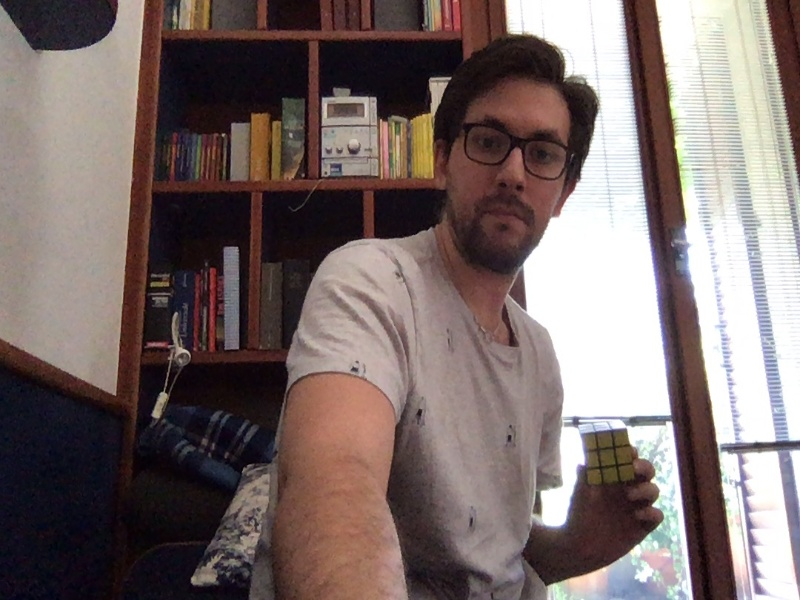rubik: (577, 418, 635, 485)
